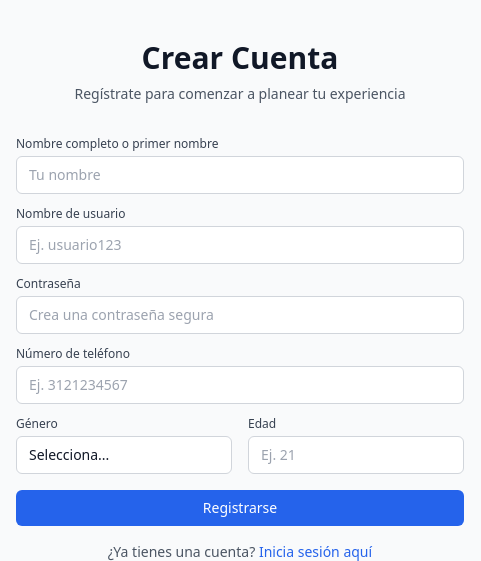
Scenario: Pruebas en la página de <Registro /> › 3. Debe procesar un registro exitoso y mostrar mensaje de éxito
Step 1. Type "Prueba Test" into the field with placeholder "Tu nombre" → (240, 175), box [16, 156, 464, 194]
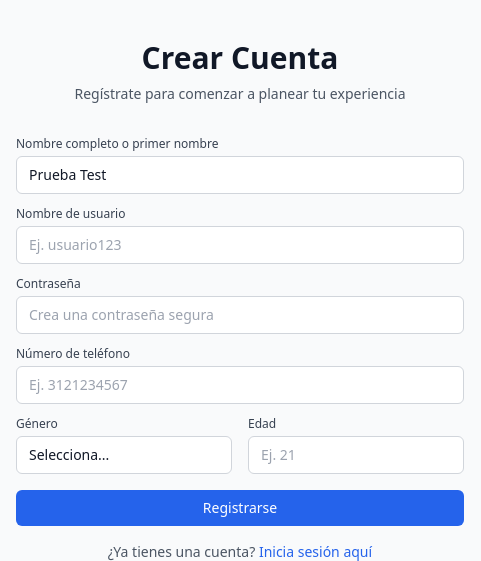
Step 2. Type "NuevoUsuario" into the field with placeholder "Ej. usuario123" → (240, 245), box [16, 226, 464, 264]
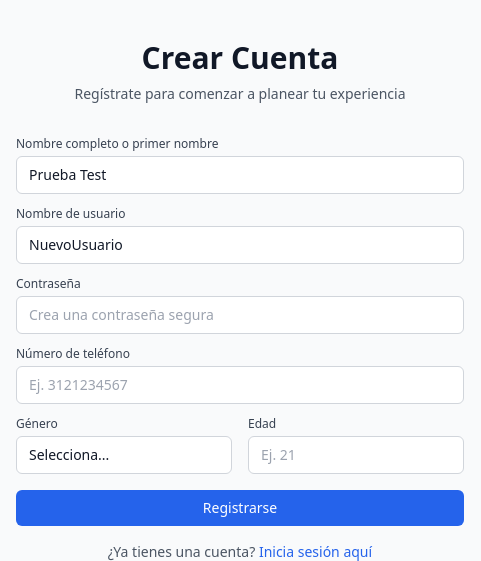
Step 3. Type "clave123" into the password field with placeholder "Crea una contraseña segura" → (240, 315), box [16, 296, 464, 334]
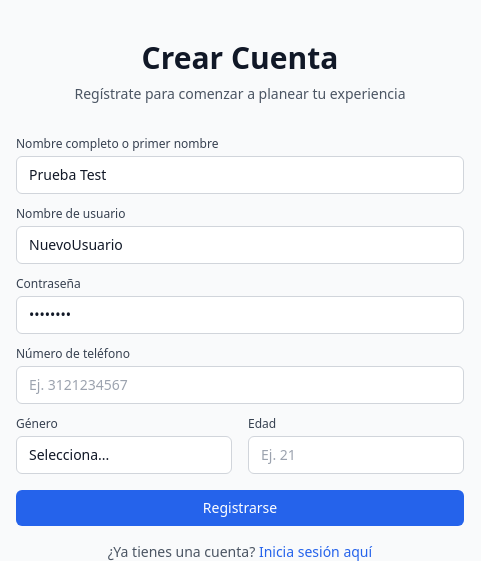
Step 4. Click the button "Registrarse" → (240, 508), box [16, 490, 464, 526]
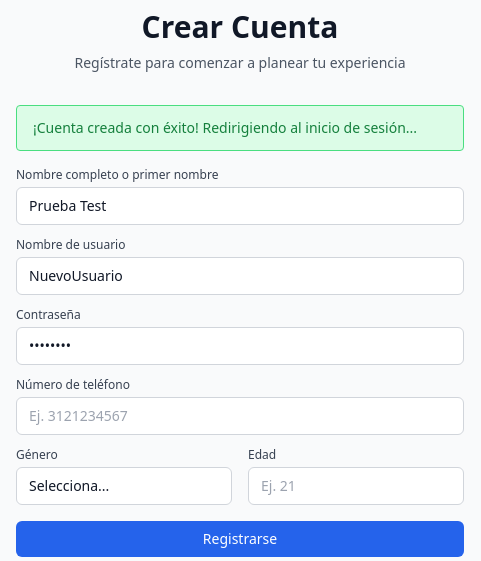
Expected: the text "Cuenta creada con éxito" is shown, [33, 118, 417, 137]
